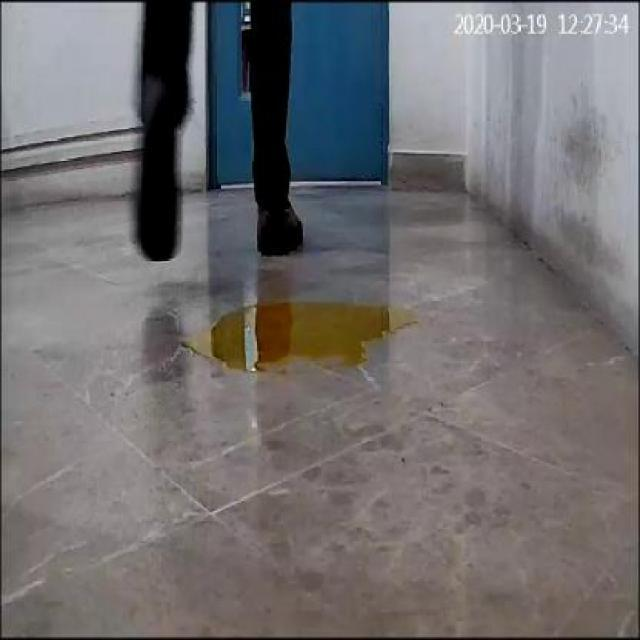spill: (187, 294, 418, 364)
